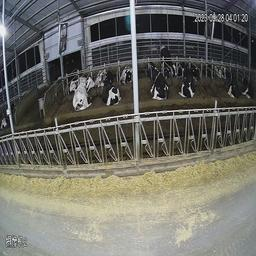cow: (144, 59, 171, 110), (70, 71, 97, 113), (101, 65, 124, 108), (179, 64, 201, 101), (224, 64, 240, 101), (159, 38, 177, 63), (241, 73, 253, 104), (121, 60, 133, 89), (206, 57, 218, 82)
